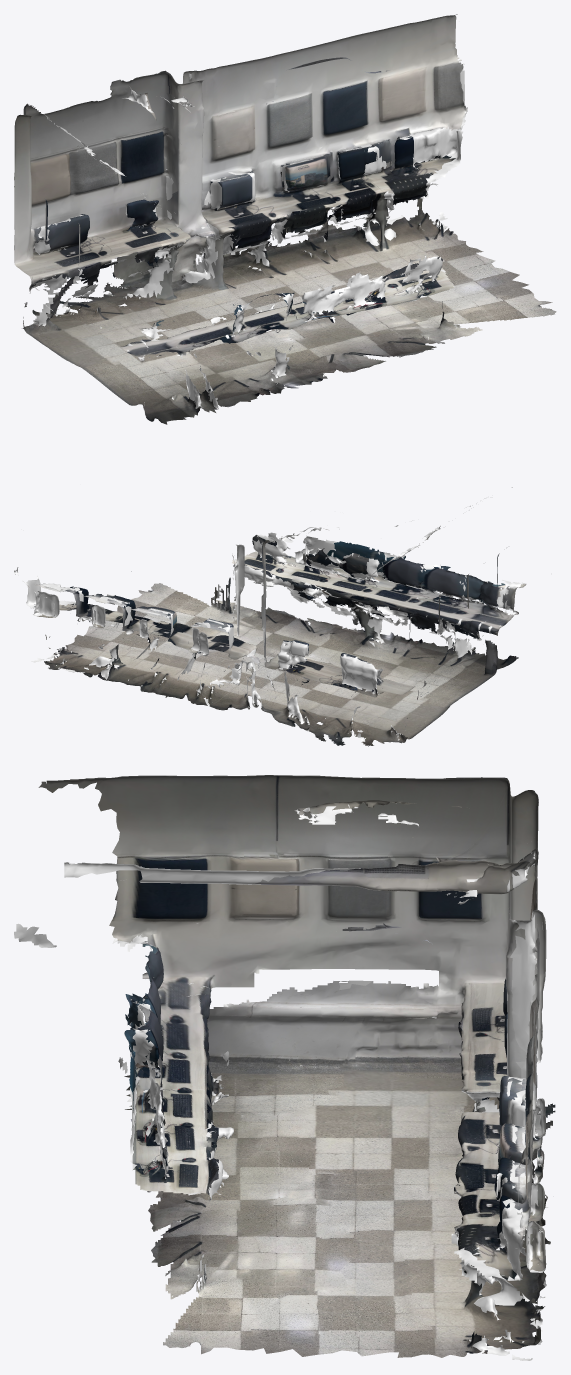
The picture shows the model from 3 angles, top to bottom: view 1: azimuth 30°, elevation 25°; view 2: azimuth 150°, elevation 25°; view 3: azimuth 270°, elevation 25°; orthographic projection. The views are drawn at different scales.
Visible parts, largest first — view 1: 5, 4, 3, 0, 2, 1; view 2: 4, 0, 3, 5, 1, 2; view 3: 4, 2, 3, 5, 0, 1.
Boxes of the visible parts, box(x1,y1,x2,y2) form: 5: box(135, 14, 467, 302); 4: box(14, 77, 368, 424); 3: box(14, 69, 522, 372); 0: box(31, 21, 467, 413); 2: box(15, 62, 272, 361); 1: box(60, 214, 556, 342); 4: box(246, 529, 518, 746); 0: box(14, 498, 526, 742); 3: box(144, 535, 433, 740); 5: box(27, 529, 325, 717); 1: box(54, 560, 345, 745); 2: box(209, 487, 526, 739); 4: box(124, 783, 552, 1222); 2: box(38, 775, 538, 1147); 3: box(124, 860, 541, 1341); 5: box(340, 857, 550, 1349); 0: box(14, 803, 547, 1360); 1: box(163, 1103, 555, 1357).
Bounding box in the file's own units: 5.9 × 2.6 × 4.29.
Materials: 6 (5 with a texture image).
